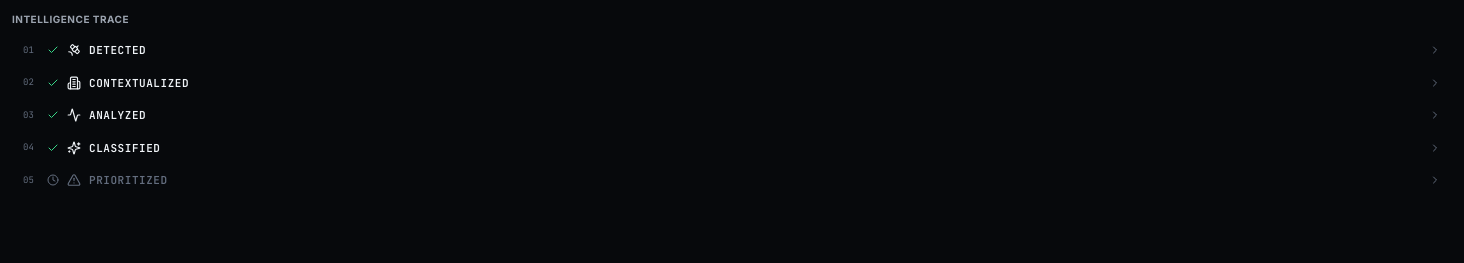
Test: D6.2 Command Center + GIS Interaction Polish › IntelligencePipelineTrace › should show linked facility details when CONTEXTUALIZED step is expanded
Click the button "02 CONTEXTUALIZED": point(139, 82) [12,68,1452,98]
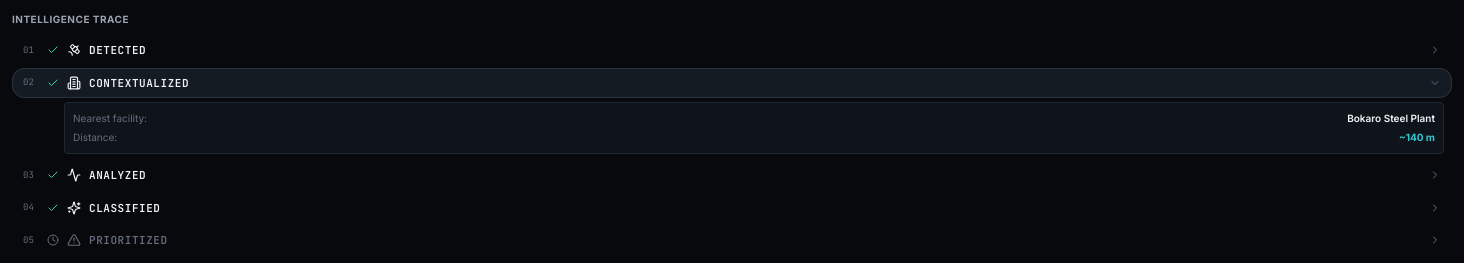
Result: the text "Nearest facility:" is shown at [73,111,147,126]
Result: the text "~140 m" is shown at [1399,130,1435,145]
